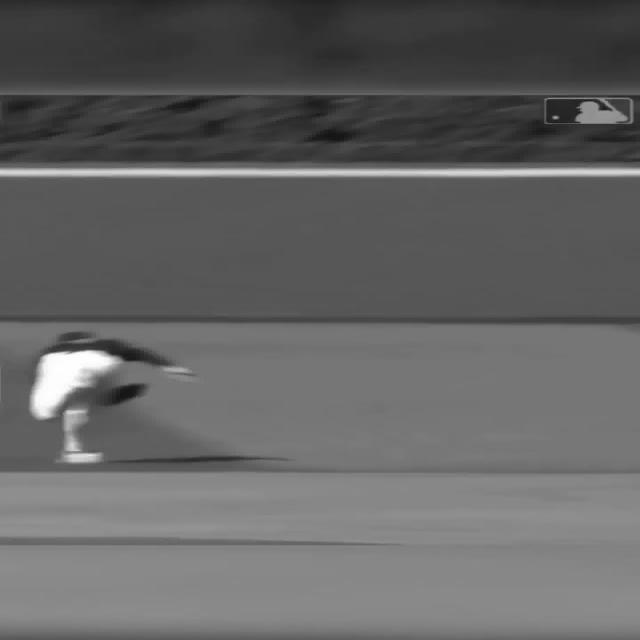baseball_glove: (100, 382, 146, 406)
